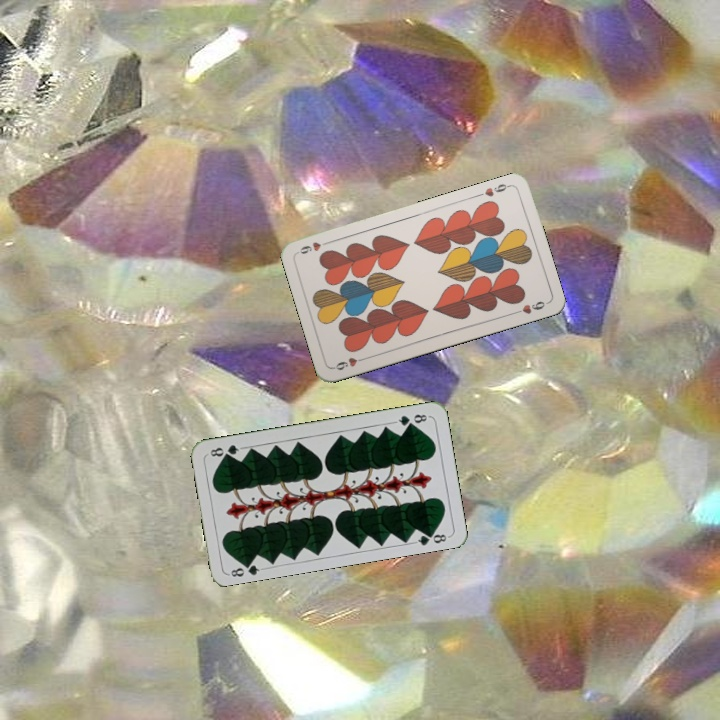G8: (225, 557, 266, 580), (391, 410, 431, 429)
H9: (330, 353, 369, 373), (481, 180, 514, 199)
